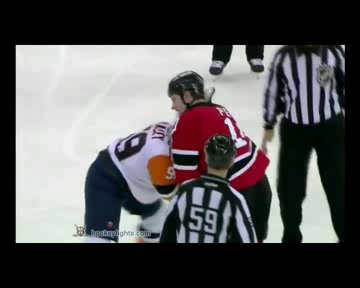normal: (59, 68, 276, 241)
